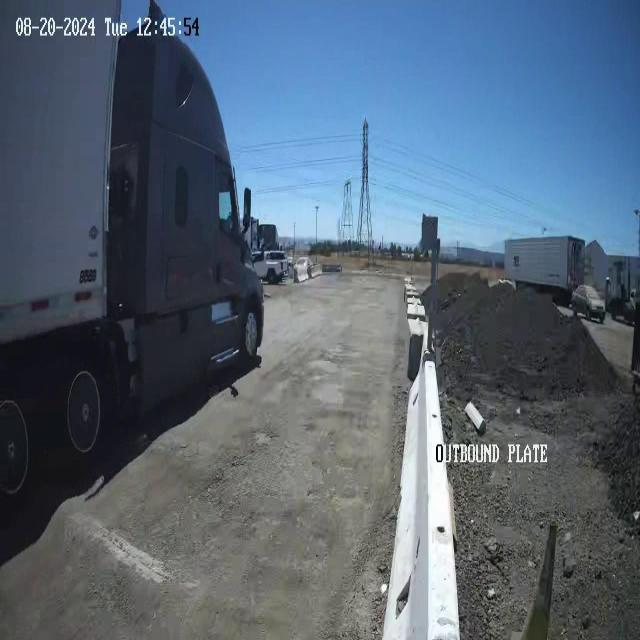TRUCK_CONTAINER: (1, 2, 265, 496)
